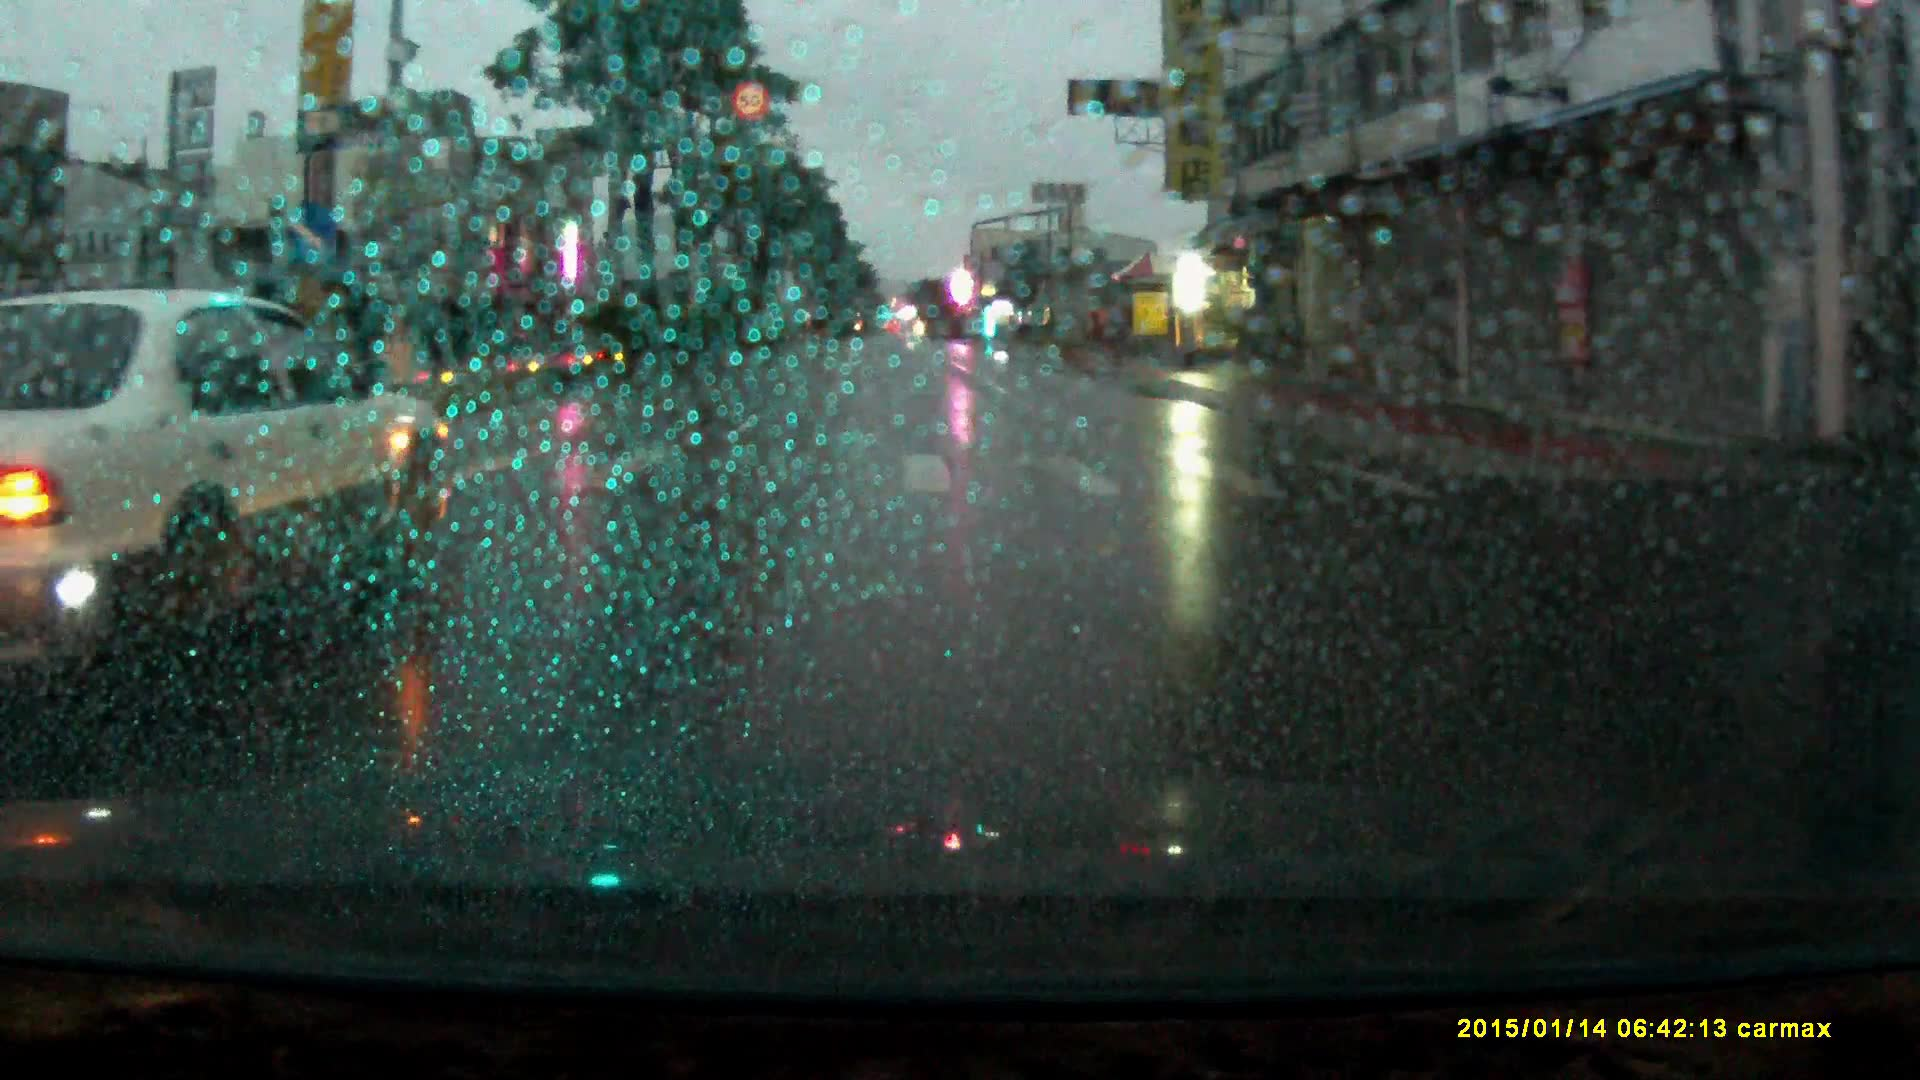vehicle: (1, 290, 462, 666)
